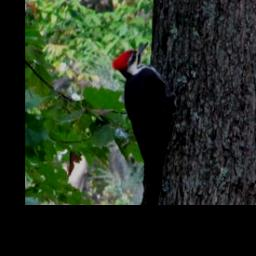Woodpecker: (109, 41, 186, 204)
